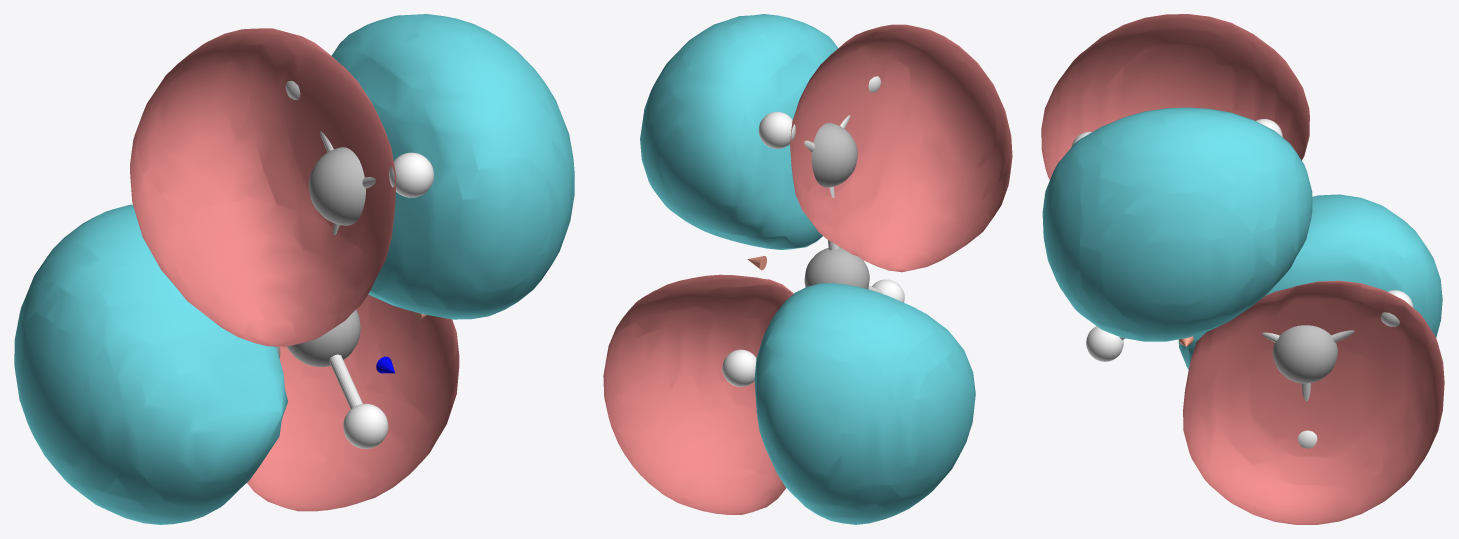
The model's file is somo.glb.
3 views of the same model, side by side, from view 1: azimuth 30°, elevation 25°; view 2: azimuth 150°, elevation 25°; view 3: azimuth 270°, elevation 25° (orthographic). The views are drawn at different scales.
Parts seen in each view (by area): view 1: Renderer Node; view 2: Renderer Node; view 3: Renderer Node.
Part boxes in pixels (x1,y1,x2,y2): Renderer Node: [14, 14, 574, 524]; Renderer Node: [603, 14, 1012, 524]; Renderer Node: [1041, 14, 1444, 524].
Size of the model in its own units: 4.45 by 5.25 by 4.27.
